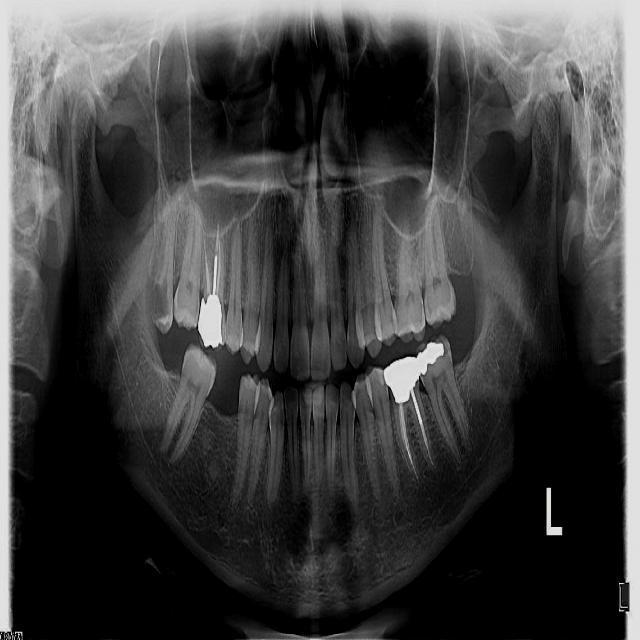dentin-curugu: (148, 280, 173, 320)
dolgu: (419, 339, 452, 371)
kanal-tedavisi: (396, 394, 434, 474), (200, 222, 225, 292)
kaplama: (379, 355, 421, 401), (197, 294, 225, 348)
